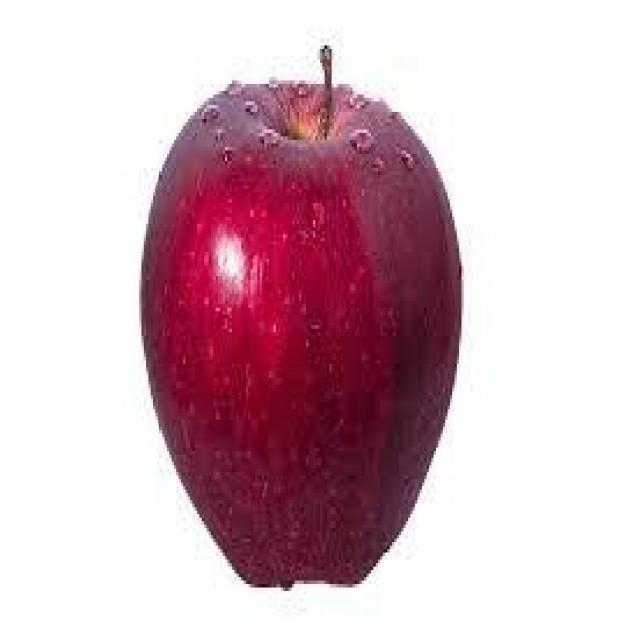apple: (142, 41, 462, 588)
